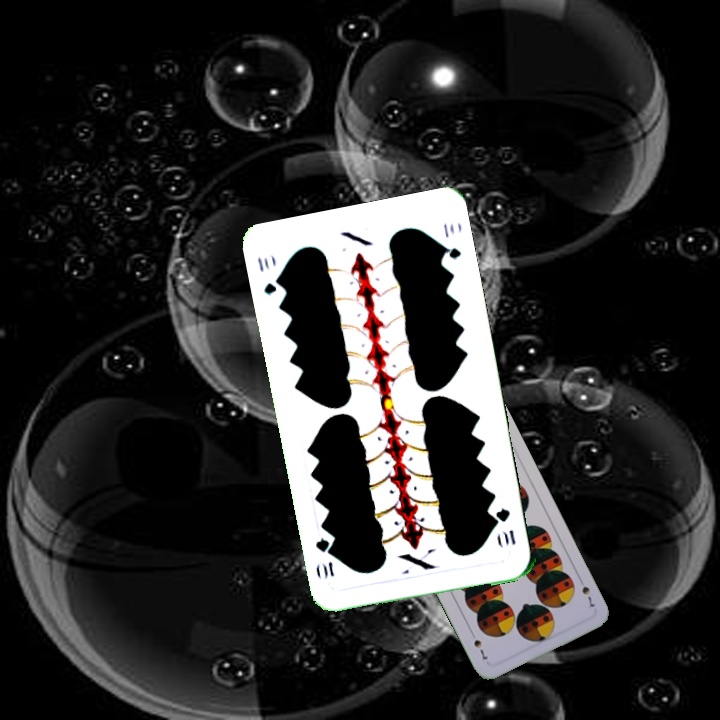G10: (253, 252, 285, 298), (491, 504, 518, 547)
S7: (575, 573, 598, 610)
